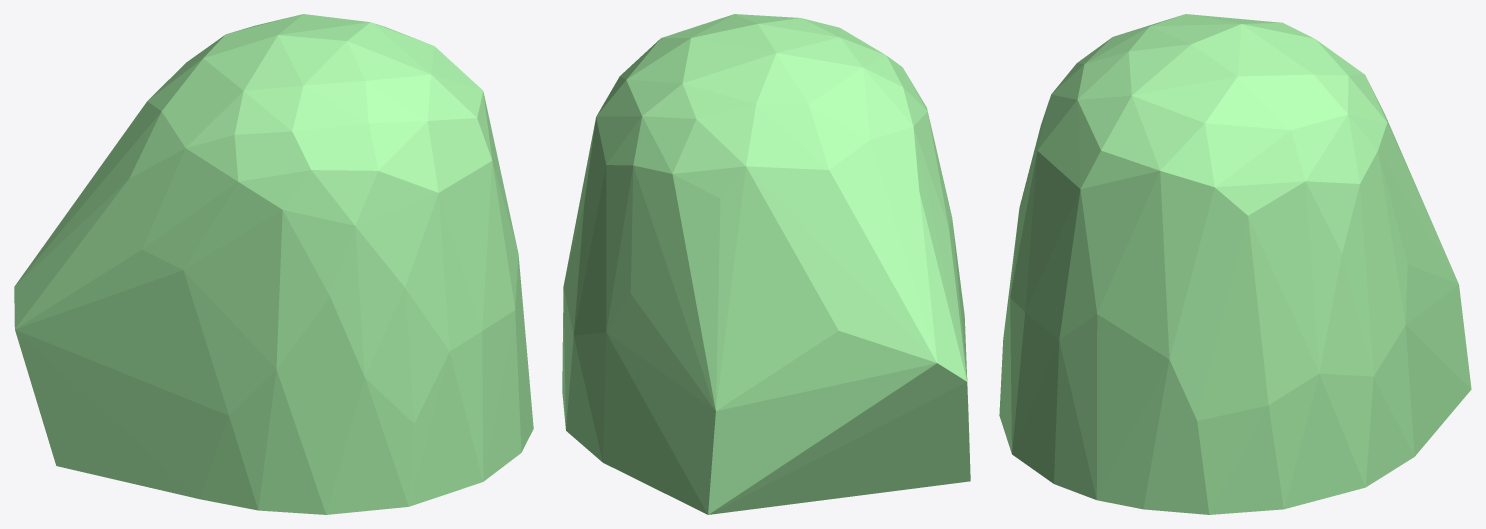
Rendered from exported_panda_link4_resp_coll_3.dae.
3 renders of one model, left to right at view 1: azimuth 30°, elevation 25°; view 2: azimuth 150°, elevation 25°; view 3: azimuth 270°, elevation 25°, orthographic. The views are drawn at different scales.
Parts seen in each view (by area): view 1: node; view 2: node; view 3: node.
Boxes of the visible parts, x1,y1,x2,y2 form: node: (14, 14, 533, 514); node: (562, 14, 970, 514); node: (999, 14, 1471, 514).
Bounding box in the file's own units: 0.1324 × 0.1106 × 0.1217.
